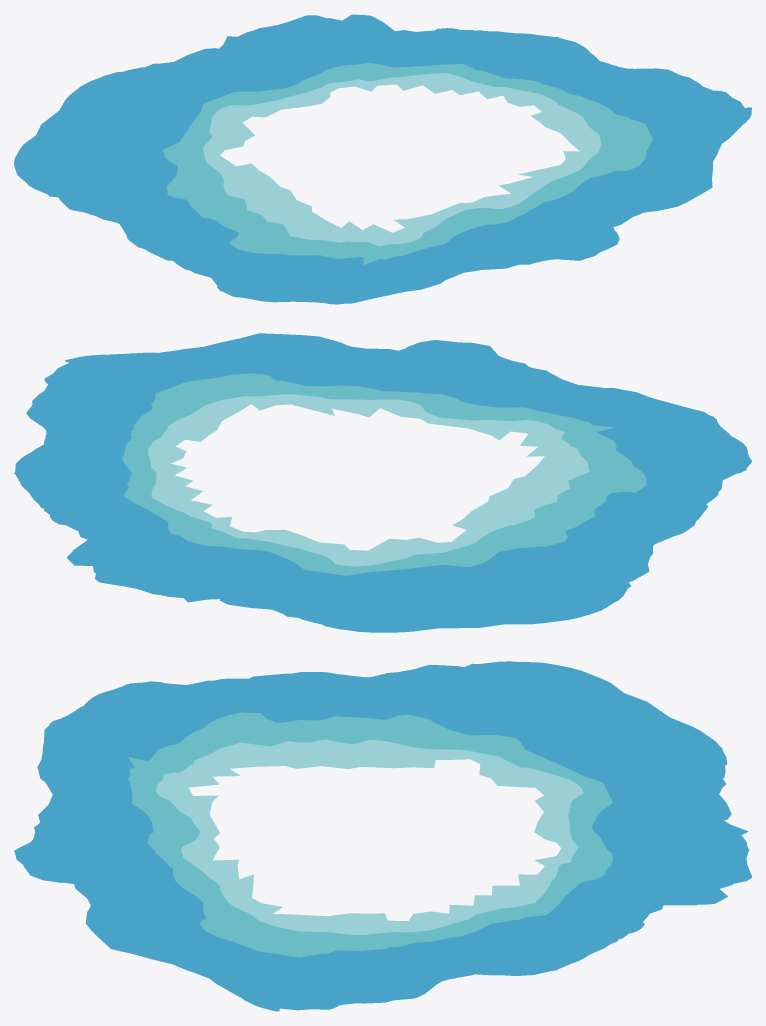
Rendered from Isl-islet2-Water.fbx.
3 views of the same model, one above another, from view 1: azimuth 30°, elevation 25°; view 2: azimuth 150°, elevation 25°; view 3: azimuth 270°, elevation 25° (orthographic). The views are drawn at different scales.
Parts seen in each view (by area): view 1: Isl-islet2-Water; view 2: Isl-islet2-Water; view 3: Isl-islet2-Water.
Boxes of the visible parts, <box> form: Isl-islet2-Water: <box>14,14,751,304</box>; Isl-islet2-Water: <box>14,333,751,632</box>; Isl-islet2-Water: <box>14,661,751,1011</box>.
Bounding box in the file's own units: 38.18 × 0 × 33.99.
